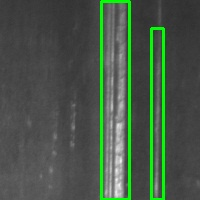scratches: (101, 1, 129, 199), (151, 28, 163, 199)
